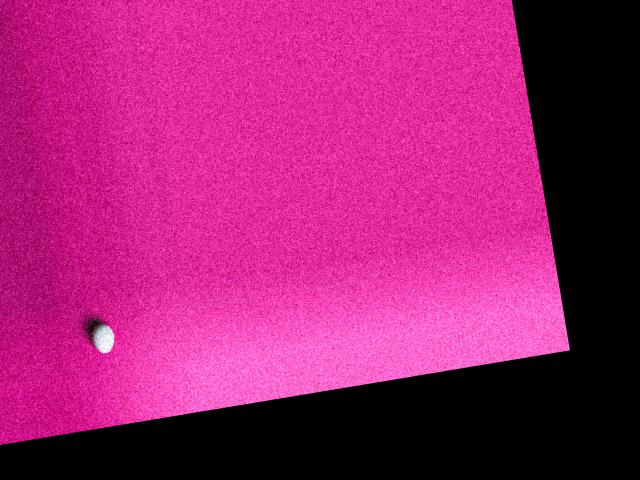egg: (90, 321, 117, 354)
